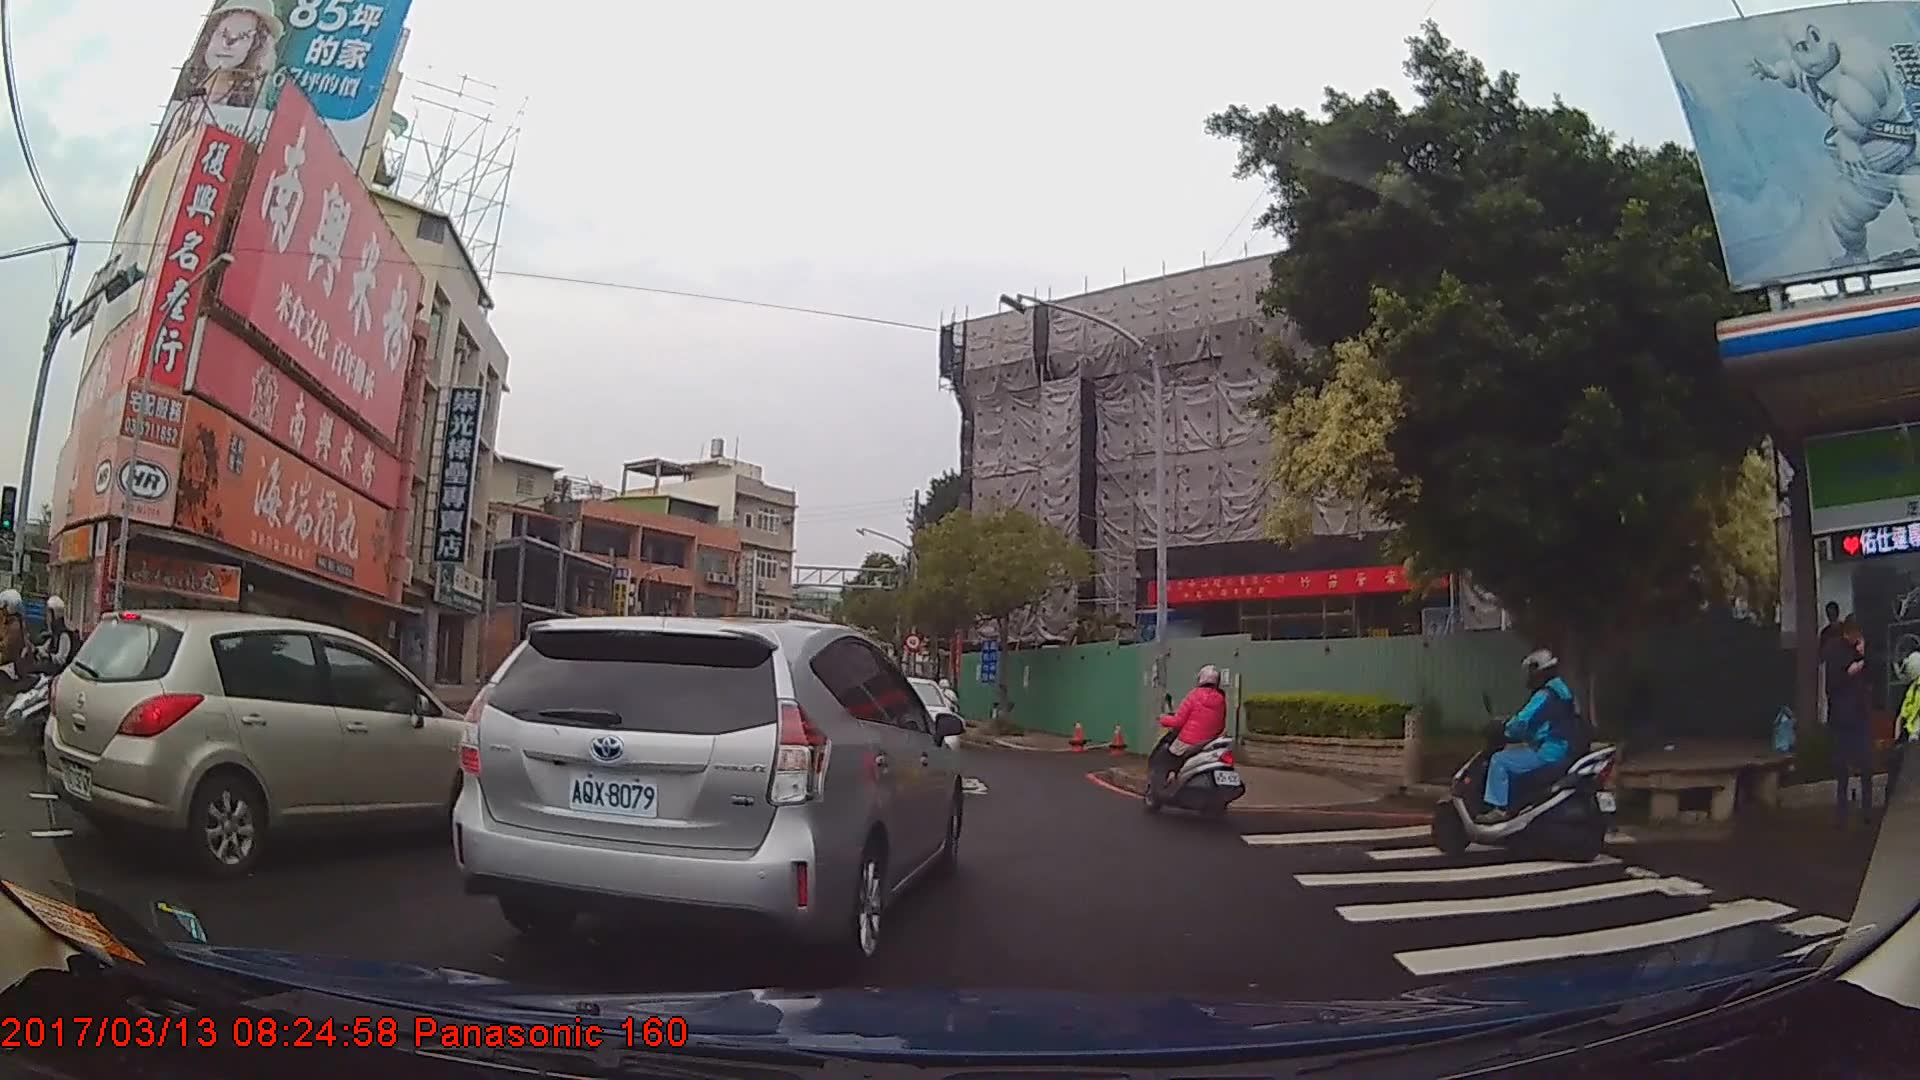pedestrian: (1823, 611, 1883, 802), (1812, 603, 1856, 739)
rider: (1436, 651, 1625, 864), (1141, 667, 1246, 828), (935, 680, 958, 754)
vehicle: (444, 617, 963, 971), (43, 607, 509, 878)
